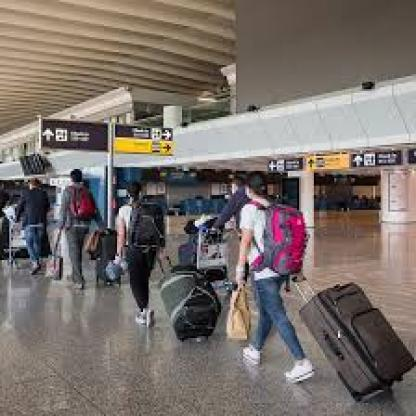airport-trolley: (179, 217, 241, 292)
